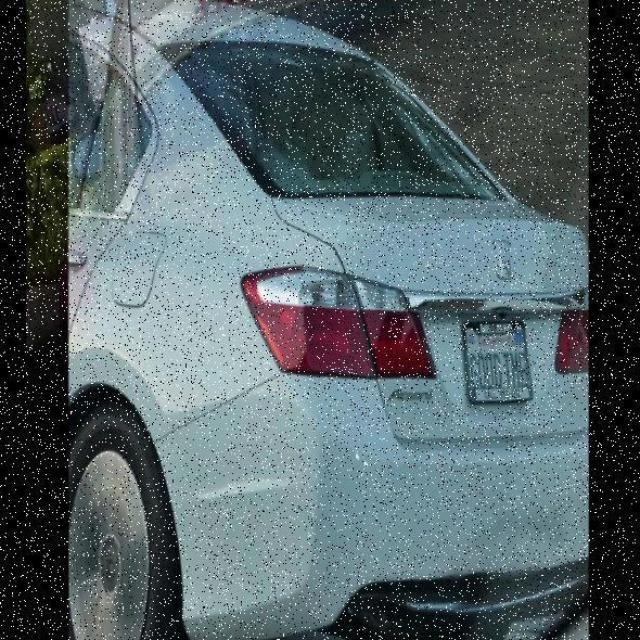license-plate: (448, 296, 574, 429)
